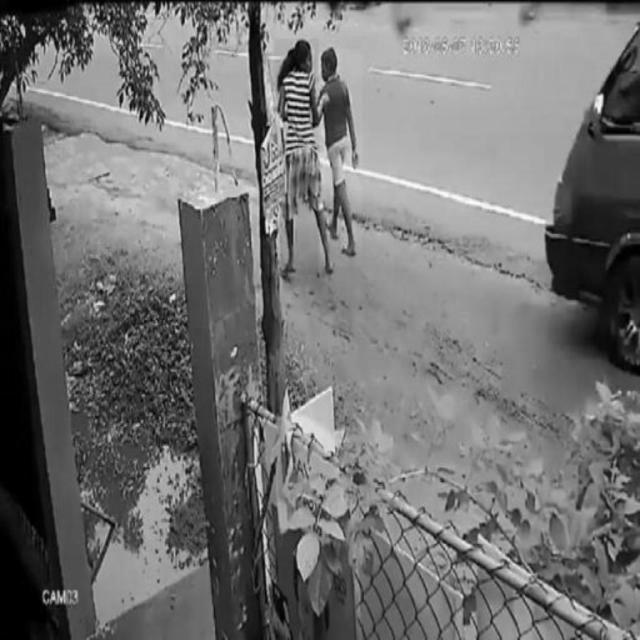person: (274, 39, 319, 275), (320, 49, 364, 266)
